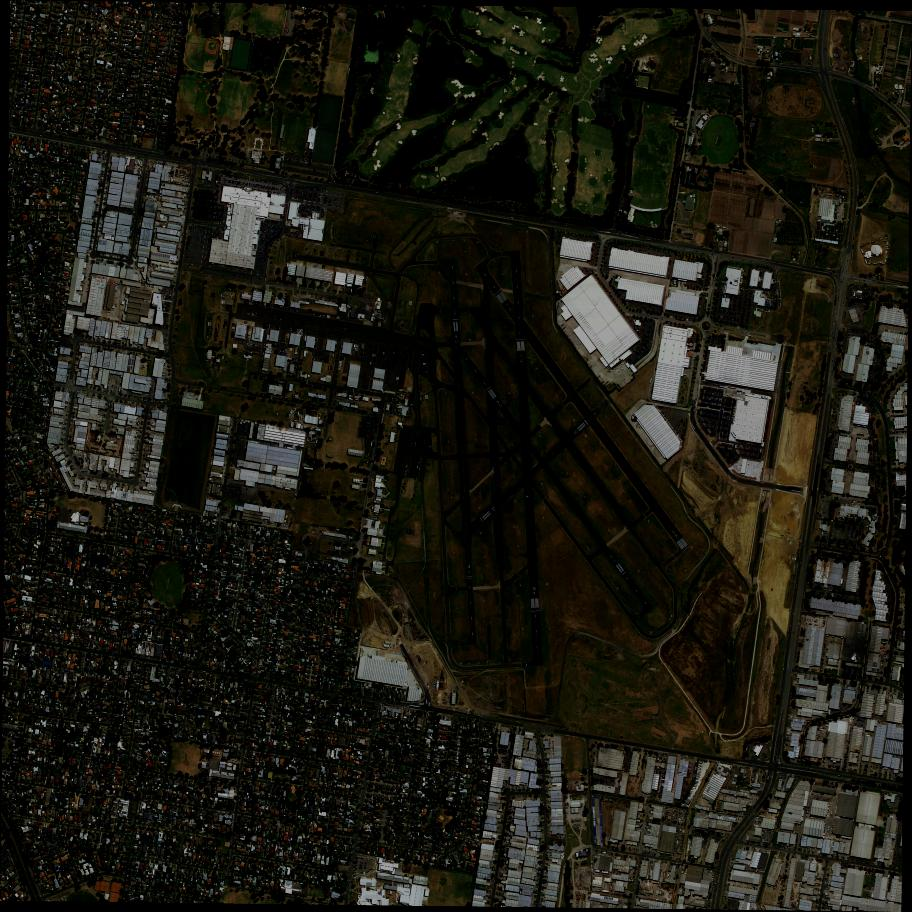plane: (294, 409, 305, 420), (290, 409, 299, 420), (296, 329, 304, 336), (299, 415, 305, 423), (263, 323, 269, 330), (231, 294, 237, 301), (307, 409, 313, 416), (312, 411, 318, 417), (249, 300, 254, 305), (274, 350, 279, 355), (406, 367, 410, 373), (295, 309, 300, 313), (300, 321, 304, 326), (308, 310, 313, 314), (221, 300, 225, 305), (215, 332, 219, 337), (320, 251, 324, 256), (410, 349, 414, 354), (392, 355, 396, 360), (413, 488, 417, 493), (293, 253, 296, 259), (269, 316, 273, 320), (274, 304, 278, 308), (246, 359, 250, 363), (235, 319, 239, 323), (331, 327, 335, 331), (351, 330, 355, 334), (361, 351, 365, 355), (340, 357, 344, 361), (281, 341, 285, 345), (275, 343, 279, 347), (399, 351, 403, 355), (381, 504, 385, 508), (339, 364, 343, 367), (329, 366, 332, 370), (212, 352, 215, 356), (211, 293, 214, 297), (409, 301, 412, 305), (414, 439, 418, 442), (255, 302, 258, 305), (231, 335, 234, 338), (310, 323, 313, 326), (347, 329, 350, 332), (339, 361, 342, 364), (208, 323, 211, 326), (224, 322, 227, 325), (209, 317, 212, 320), (396, 377, 399, 380), (411, 404, 414, 407), (373, 354, 376, 357), (381, 366, 384, 369), (380, 509, 383, 512), (385, 504, 388, 507), (263, 305, 267, 307), (231, 331, 233, 335), (339, 366, 341, 370), (366, 385, 368, 389), (214, 337, 216, 341), (399, 389, 403, 391), (409, 395, 413, 397), (426, 395, 428, 399), (415, 442, 417, 446), (425, 439, 427, 443), (428, 446, 432, 448), (406, 469, 408, 473), (416, 470, 418, 474), (278, 317, 280, 320), (281, 306, 284, 308), (222, 356, 224, 359), (234, 290, 237, 292), (248, 313, 251, 315), (293, 329, 296, 331), (337, 317, 340, 319), (350, 340, 352, 343), (320, 314, 322, 317), (273, 344, 275, 347), (286, 350, 288, 353), (316, 313, 318, 316), (220, 346, 222, 349), (220, 342, 222, 345), (224, 318, 226, 321), (322, 265, 324, 268), (420, 398, 422, 401), (423, 363, 426, 365), (424, 370, 426, 373), (376, 337, 378, 340), (407, 454, 409, 457), (417, 462, 419, 465), (404, 482, 406, 485), (413, 494, 415, 497), (276, 327, 278, 329), (268, 304, 270, 306), (278, 306, 280, 308), (290, 328, 291, 332), (252, 313, 254, 315), (218, 355, 220, 357), (245, 322, 247, 324), (328, 316, 330, 318), (343, 329, 345, 331), (324, 315, 326, 317), (280, 350, 282, 352), (207, 337, 209, 339), (216, 325, 218, 327), (218, 317, 220, 319), (423, 325, 425, 327), (374, 351, 376, 353), (382, 356, 383, 360), (383, 353, 385, 355), (395, 347, 397, 349), (407, 464, 408, 468), (405, 474, 407, 476), (415, 476, 416, 480), (418, 457, 419, 461), (225, 362, 228, 363), (233, 353, 236, 354), (232, 323, 233, 326), (339, 337, 340, 340), (355, 331, 358, 332), (315, 345, 316, 348), (222, 306, 223, 309), (207, 329, 208, 332), (216, 329, 217, 332), (394, 352, 395, 355), (415, 436, 416, 439), (292, 321, 293, 323), (260, 315, 262, 316), (233, 328, 235, 329), (328, 326, 330, 327), (291, 349, 292, 351), (320, 359, 322, 360), (221, 295, 222, 297), (223, 326, 225, 327), (306, 249, 307, 251), (314, 250, 316, 251), (423, 354, 424, 356), (395, 382, 397, 383), (371, 363, 372, 365), (384, 349, 385, 351), (428, 464, 430, 465), (257, 314, 258, 315), (245, 312, 246, 313), (312, 313, 313, 314), (420, 388, 421, 389), (403, 487, 404, 488), (412, 499, 413, 500), (258, 303, 258, 305), (290, 308, 290, 308), (369, 377, 370, 377), (307, 334, 309, 334), (313, 356, 313, 358), (316, 338, 316, 341), (223, 330, 223, 331), (336, 254, 336, 255), (525, 664, 525, 666), (410, 442, 410, 445), (418, 466, 418, 468), (402, 492, 402, 493)
small-vehicle: (41, 135, 41, 136)
storage-tank: (871, 246, 881, 255), (634, 325, 639, 330), (347, 14, 351, 18), (689, 343, 693, 347), (751, 123, 755, 127), (615, 278, 619, 281), (752, 120, 755, 124), (352, 15, 355, 18), (631, 416, 634, 419), (673, 280, 677, 282), (703, 373, 705, 375), (556, 293, 559, 294), (761, 396, 762, 398), (865, 871, 866, 873), (764, 397, 765, 398), (831, 594, 831, 596)
